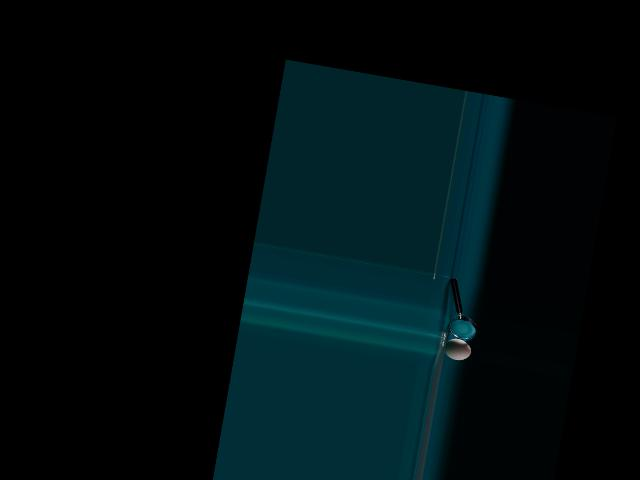egg: (442, 337, 472, 362)
